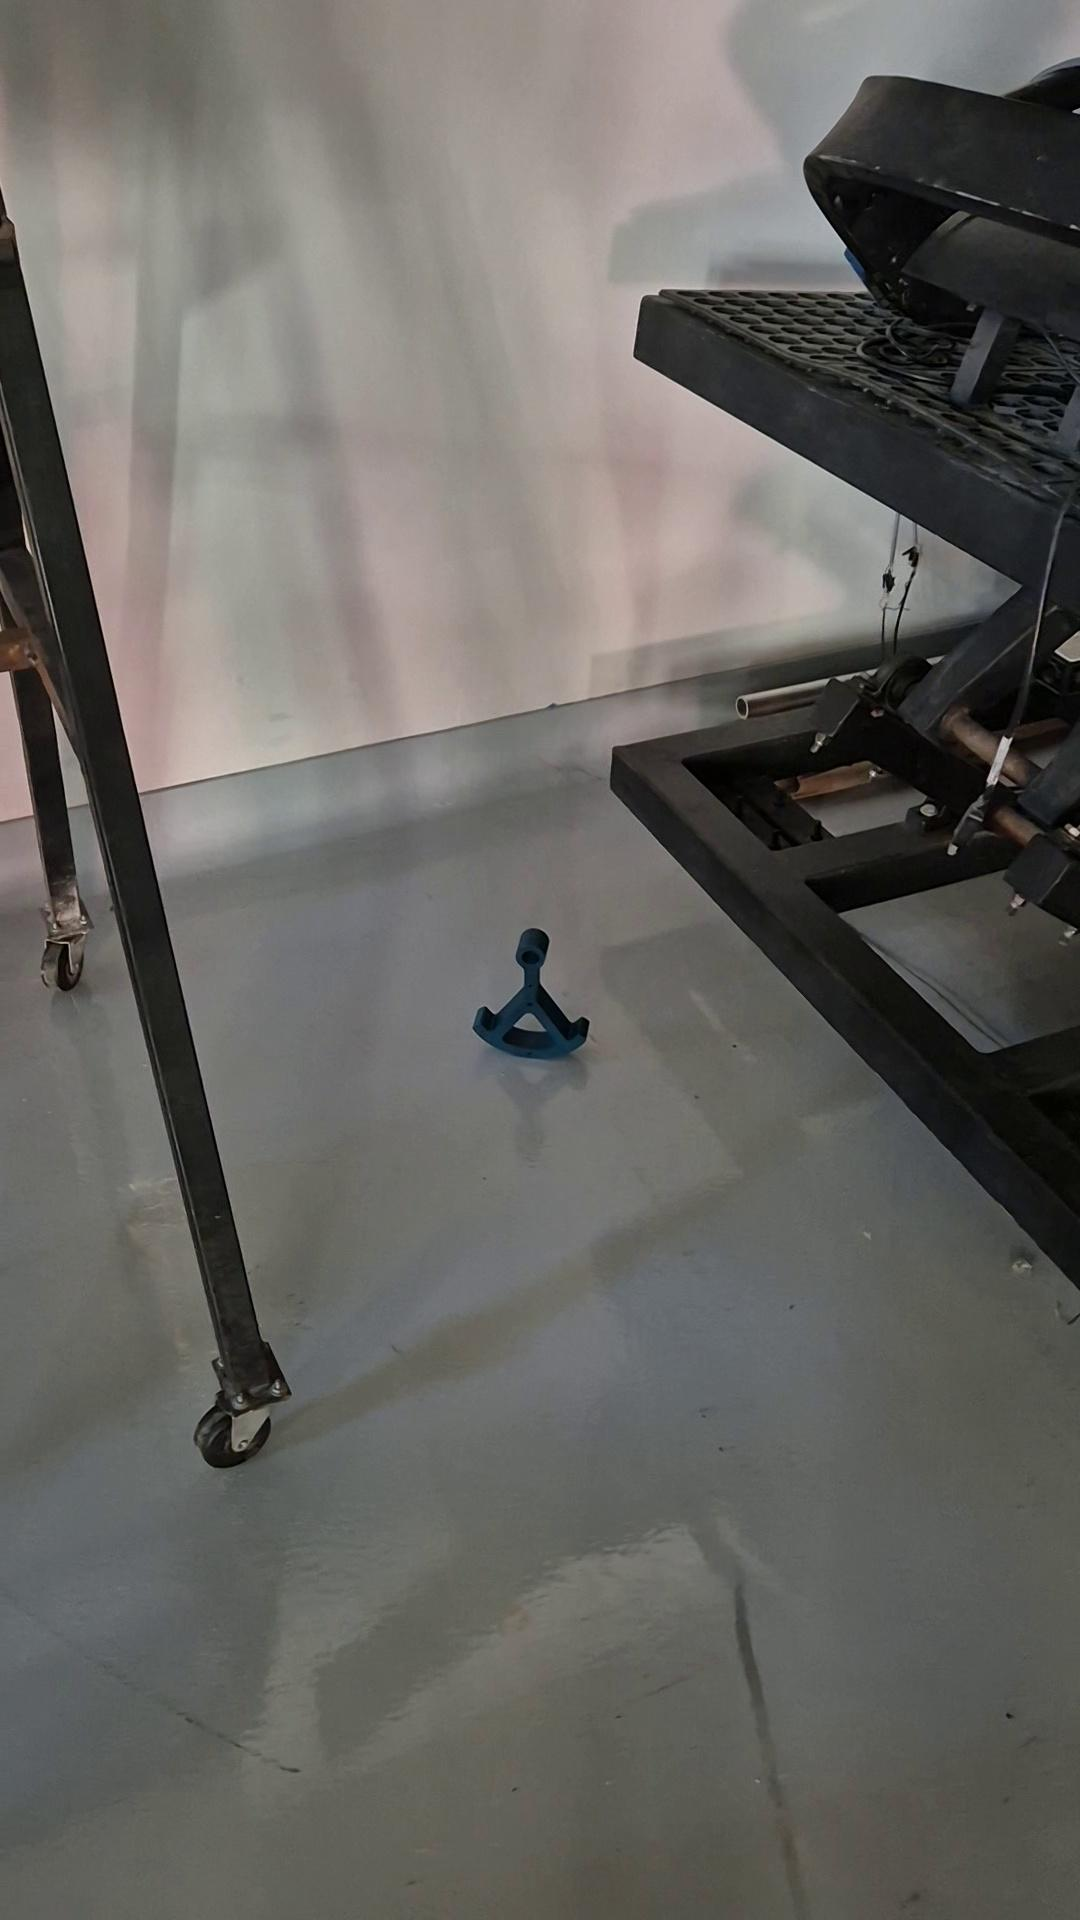Paddles: (471, 926, 592, 1060)
